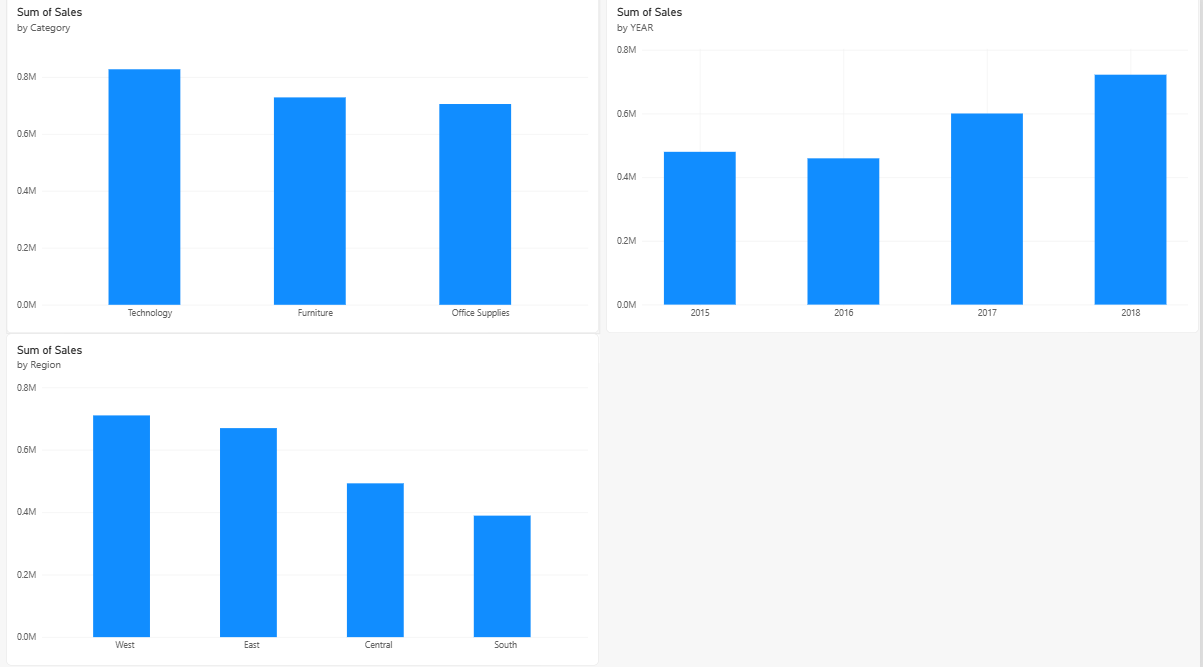

The page's visual inventory and layout, read from the dashboard file:
{"tool":"powerbi","page":{"name":"Page 1","canvas":[1920,1080],"ordinal":0},"visuals":[{"type":"clusteredColumnChart","fields":{"Category":["train.Category"],"Y":["Sum(train.Sales)"]},"box":[10.9,0,948.3,539.3],"z":0},{"type":"clusteredColumnChart","fields":{"Category":["train.Region"],"Y":["Sum(train.Sales)"]},"box":[10.9,539.3,948,531],"z":1},{"type":"clusteredColumnChart","fields":{"Category":["train.YEAR"],"Y":["Sum(train.Sales)"]},"box":[969,0,948,539],"z":2}]}

Visuals, with their boxes in screenshot pixels (x1, y1, x2, y2), scaled from the page's 1920x1080 canvas onto the 1203x667 screenshot:
clusteredColumnChart - train.Category x Sum(train.Sales): (left=7, top=0, right=601, bottom=333)
clusteredColumnChart - train.Region x Sum(train.Sales): (left=7, top=333, right=601, bottom=661)
clusteredColumnChart - train.YEAR x Sum(train.Sales): (left=607, top=0, right=1201, bottom=333)
